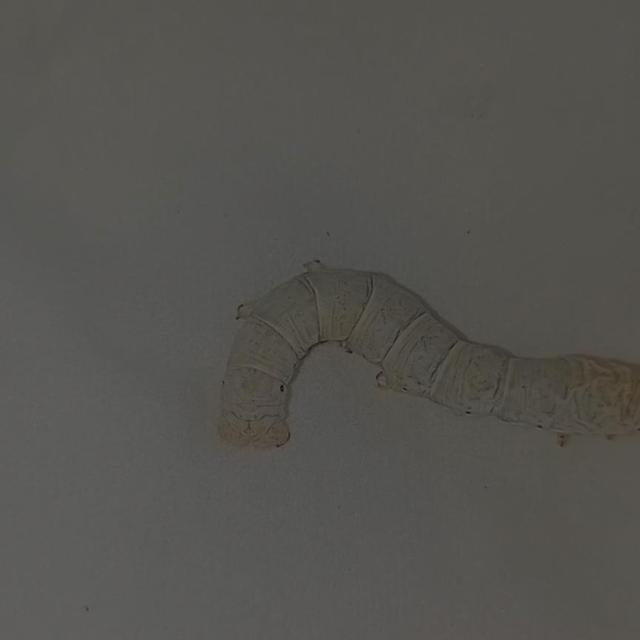Healthy: (194, 232, 640, 492)
